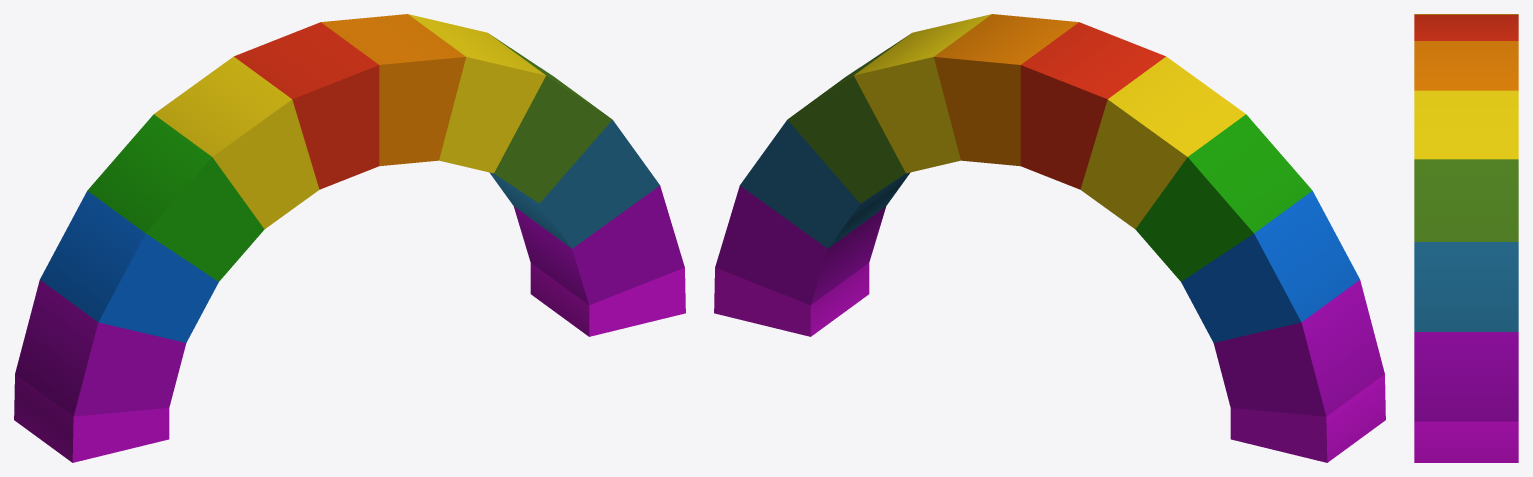
File: Rainbow.fbx
3 views of the same model, side by side, from view 1: azimuth 30°, elevation 25°; view 2: azimuth 150°, elevation 25°; view 3: azimuth 270°, elevation 25° (orthographic). The views are drawn at different scales.
Visible parts, largest first — view 1: Cylinder.006; view 2: Cylinder.006; view 3: Cylinder.006.
Part boxes in pixels (left/top/right/bottom): Cylinder.006: left=14, top=14, right=685, bottom=462; Cylinder.006: left=714, top=14, right=1385, bottom=462; Cylinder.006: left=1414, top=14, right=1518, bottom=462.
Size of the model in its own units: 6.6 by 1.09 by 3.32.
